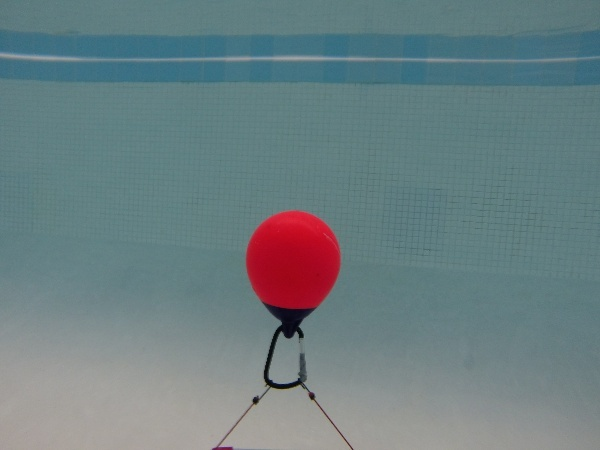buoy_red: (241, 211, 343, 335)
